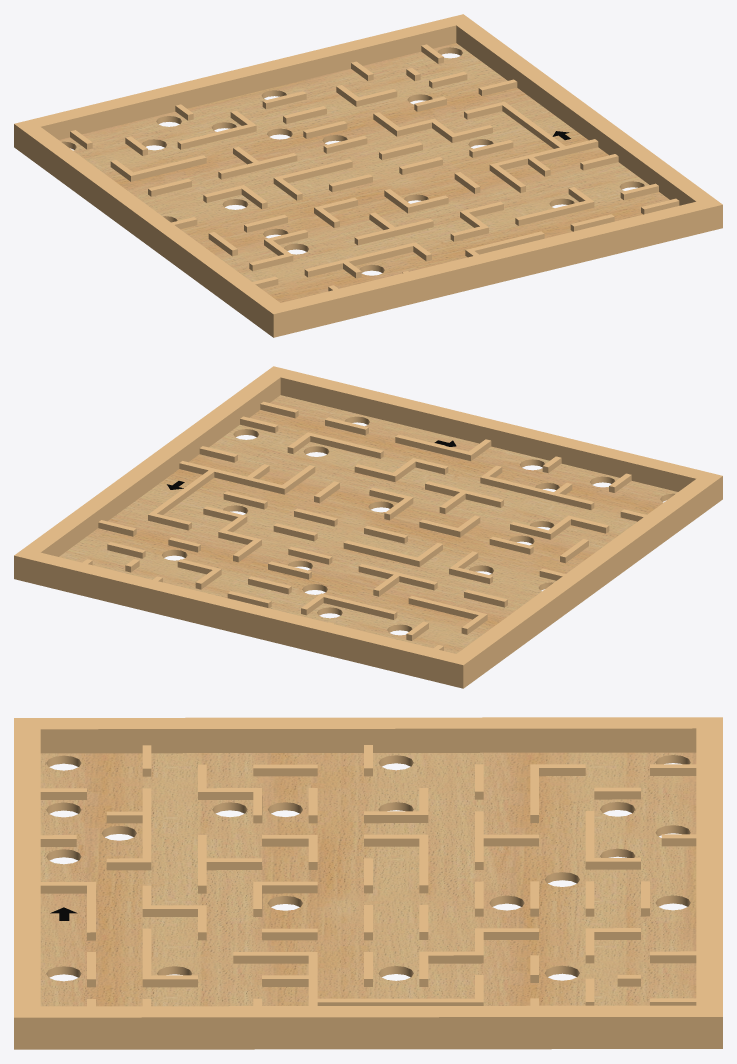
File: boardgamejoin.dae
3 views of the same model, one above another, from view 1: azimuth 30°, elevation 25°; view 2: azimuth 150°, elevation 25°; view 3: azimuth 270°, elevation 25° (orthographic). The views are drawn at different scales.
Visible parts, largest first — view 1: group_1.055; view 2: group_1.055; view 3: group_1.055.
Boxes of the visible parts, box(x1,y1,x2,y2) form: group_1.055: box(14, 14, 722, 337); group_1.055: box(14, 366, 722, 688); group_1.055: box(14, 717, 722, 1049).
Bounding box in the file's own units: 10 × 10 × 0.5124.
